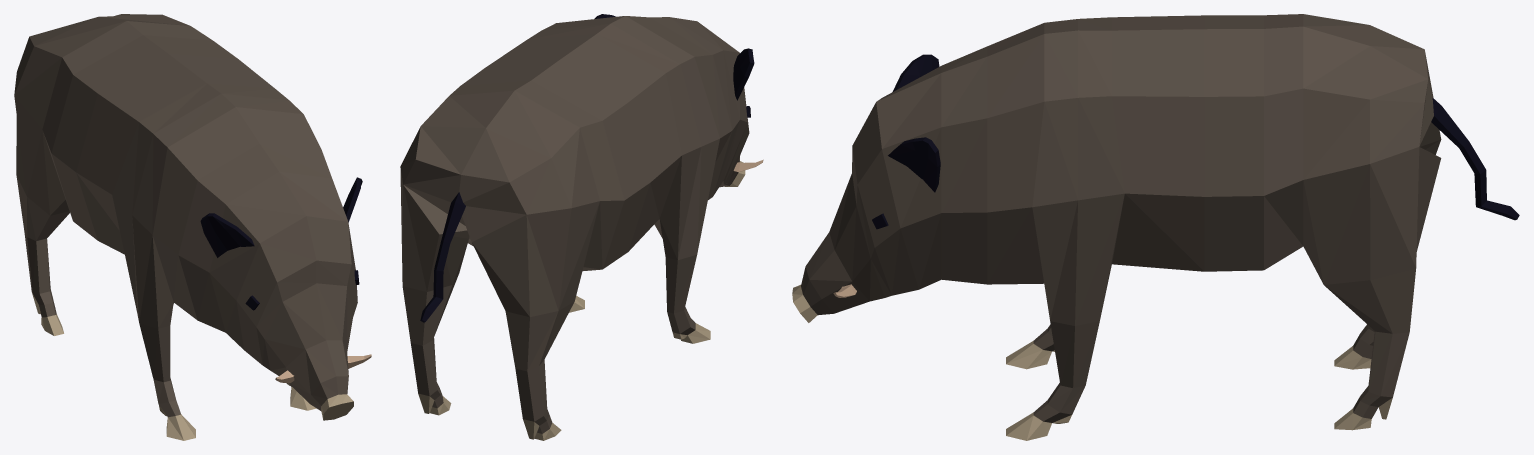
Rendered from inosisi.glb.
3 renders of one model, left to right at view 1: azimuth 30°, elevation 25°; view 2: azimuth 150°, elevation 25°; view 3: azimuth 270°, elevation 25°, orthographic. The views are drawn at different scales.
Bounding box in the file's own units: 0.0582 × 0.0942 × 0.1678.
Materials: 1 (1 with a texture image).
